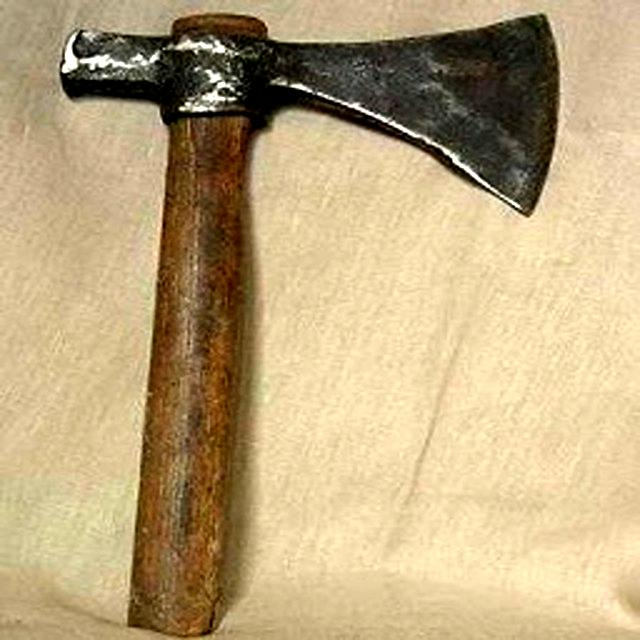ax: (48, 6, 574, 636)
